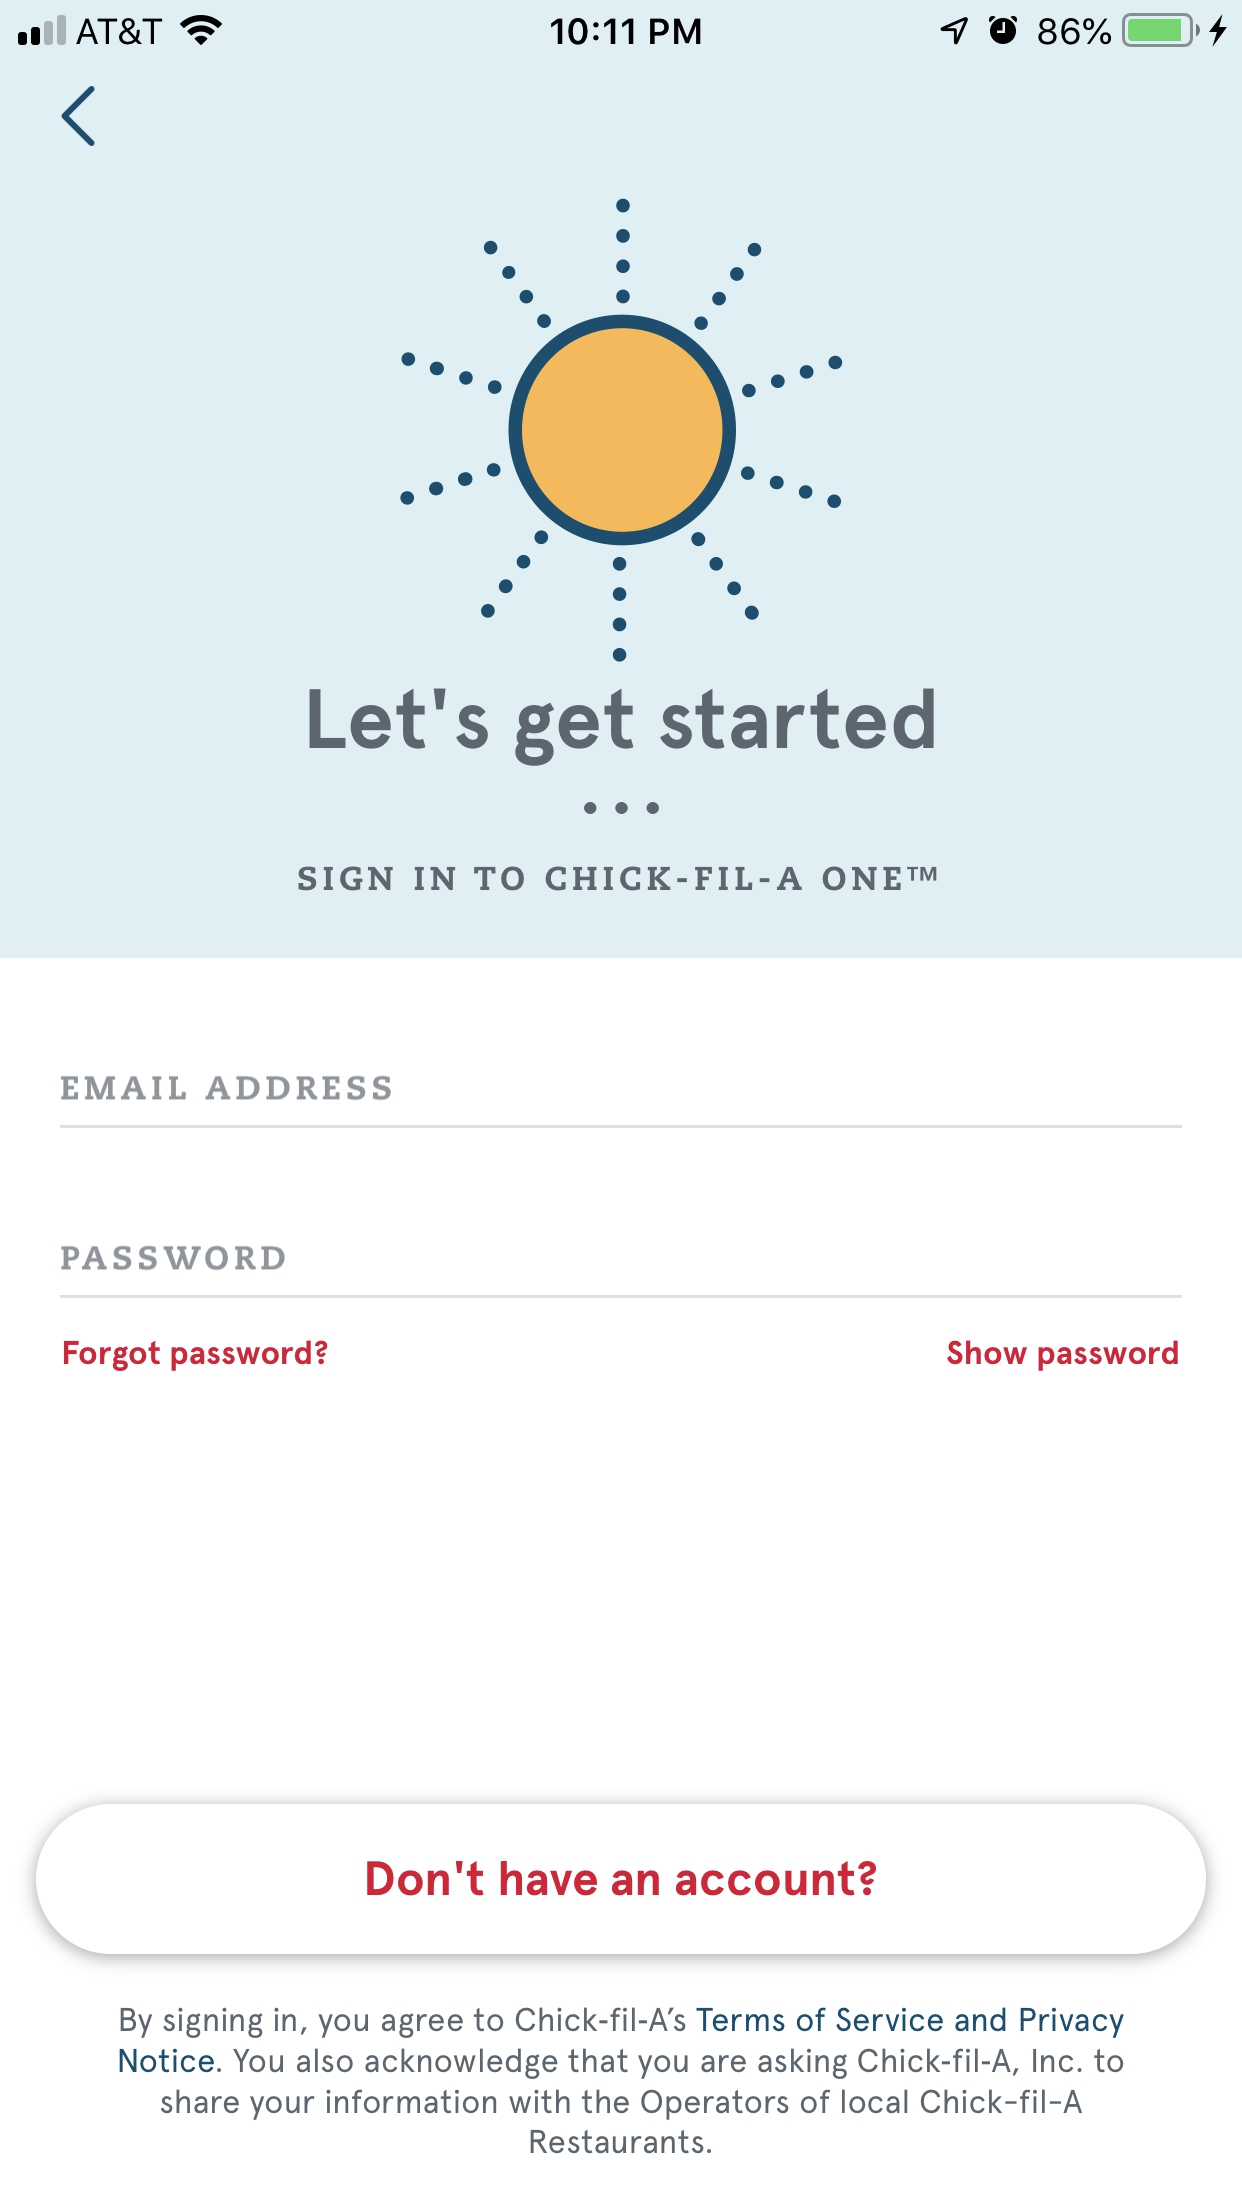EditText: (61, 1245, 1183, 1300), (61, 1077, 1184, 1130)
Icon: (61, 86, 97, 149)
Image: (400, 199, 845, 663)
PageIndicator: (582, 802, 661, 816)
Text: (118, 2006, 1124, 2155), (309, 687, 936, 767), (299, 864, 939, 893), (64, 1341, 329, 1372), (61, 1077, 391, 1101), (946, 1339, 1178, 1372), (61, 1245, 287, 1271)
TextButton: (36, 1803, 1209, 1955)
UpperTaskBar: (2, 2, 1242, 49)
